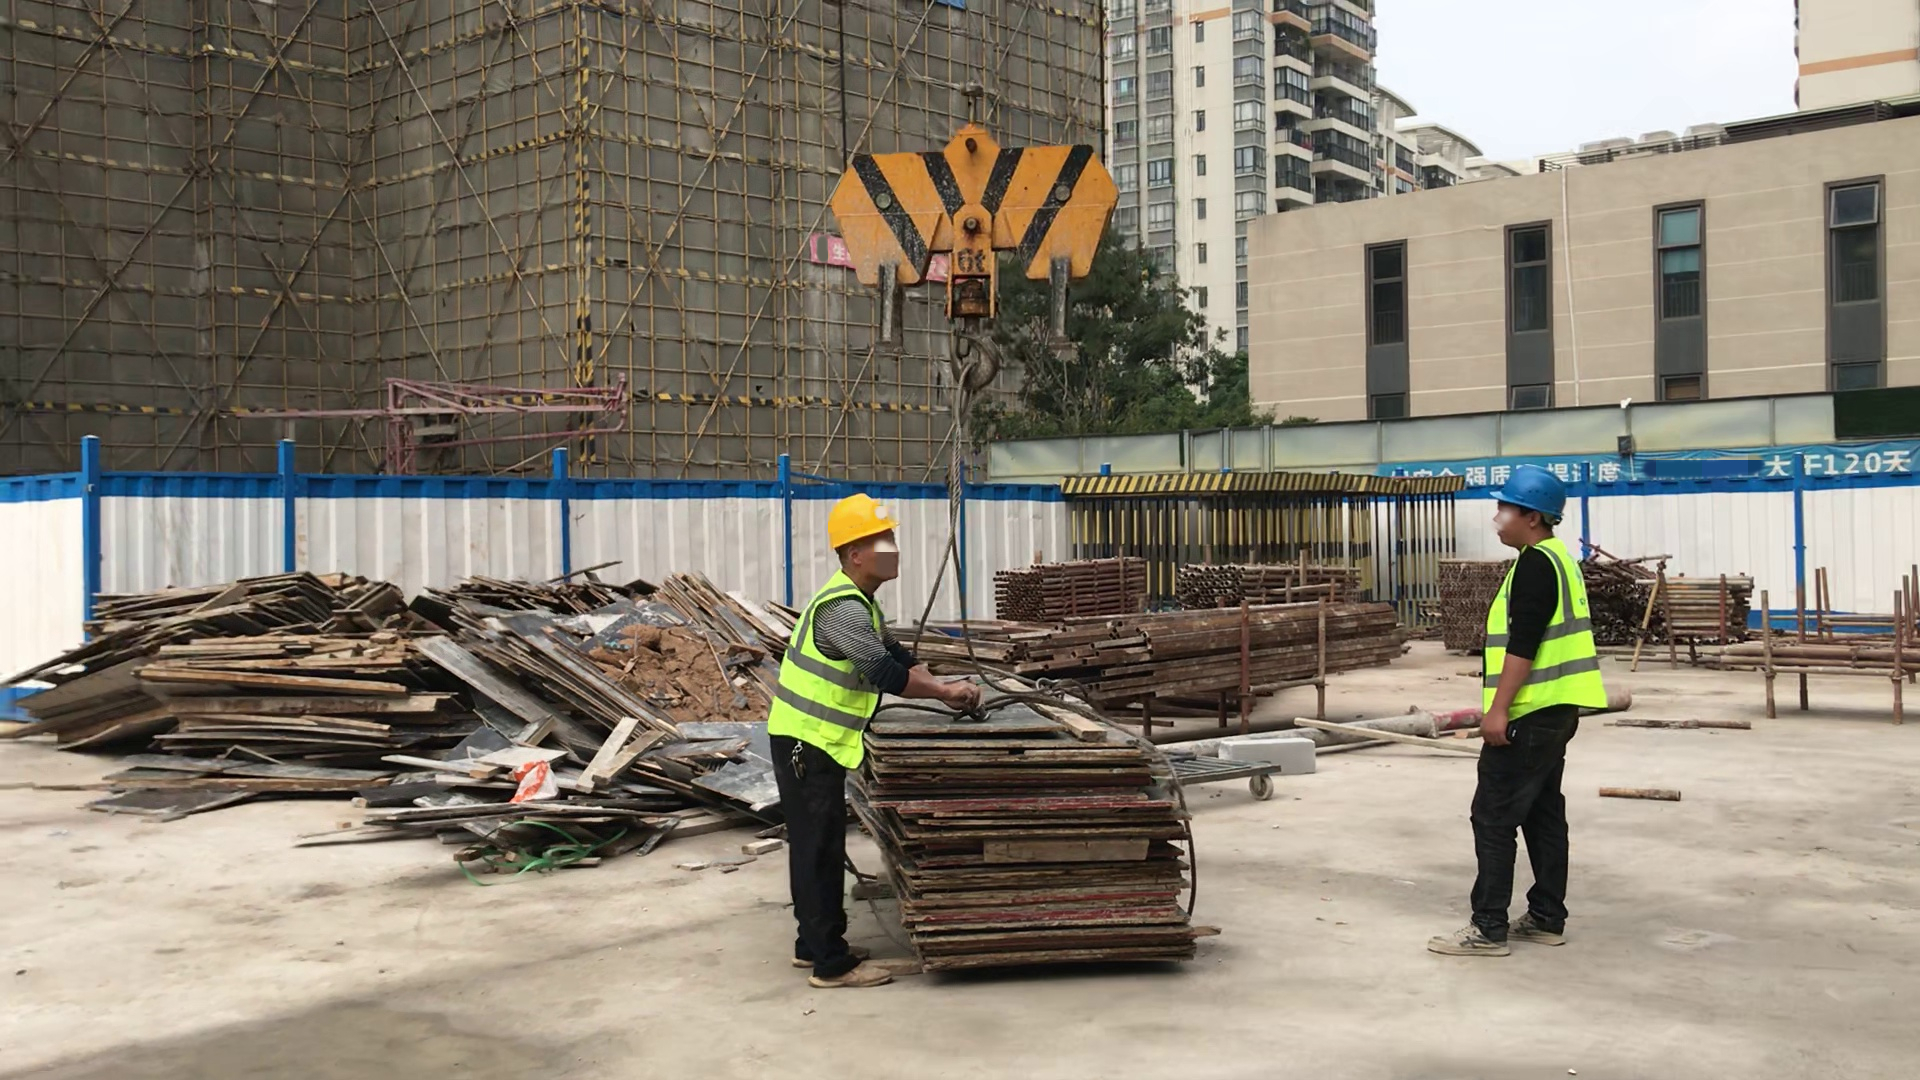board: (862, 714, 1213, 982)
helmet: (1490, 466, 1562, 522), (821, 494, 894, 550)
hook: (826, 117, 1118, 390)
person: (766, 493, 984, 989), (1428, 464, 1592, 954)
scaffold: (996, 557, 1147, 615), (1183, 556, 1352, 601), (1669, 575, 1759, 645), (1441, 557, 1492, 646)
slogan: (1414, 443, 1913, 487)
vest: (1478, 537, 1606, 732), (771, 568, 884, 770)
